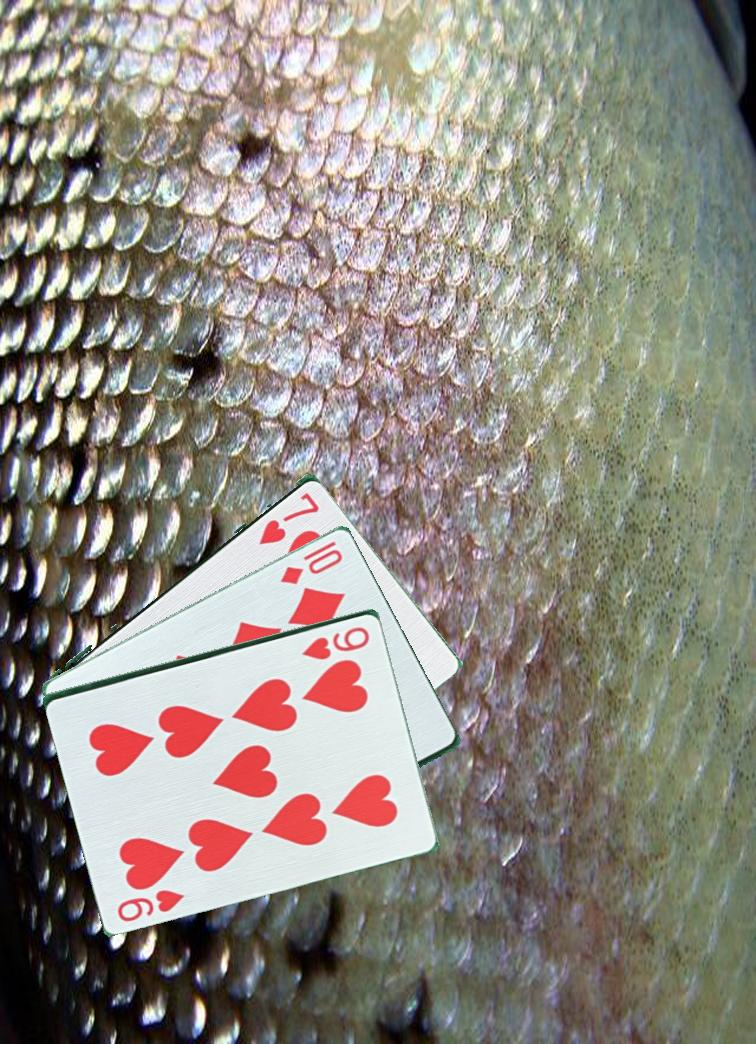7h: (255, 486, 322, 548)
9h: (113, 885, 191, 925), (299, 622, 373, 662)
td: (277, 544, 346, 587)
